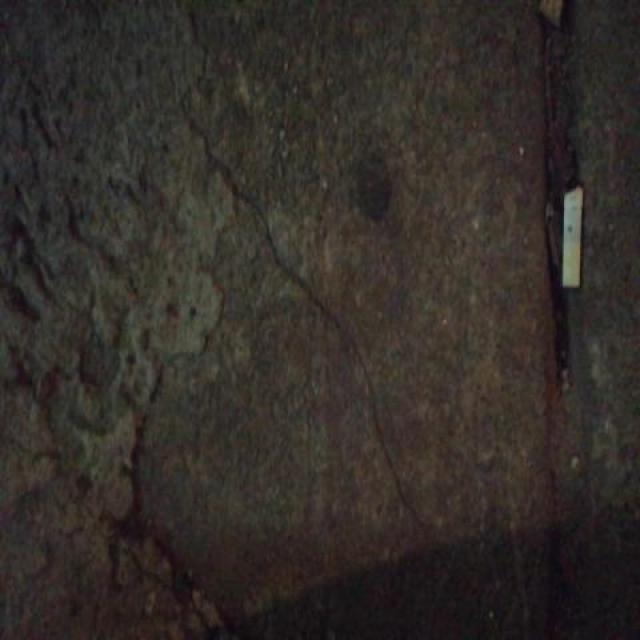non-organic waste: (558, 178, 586, 290)
